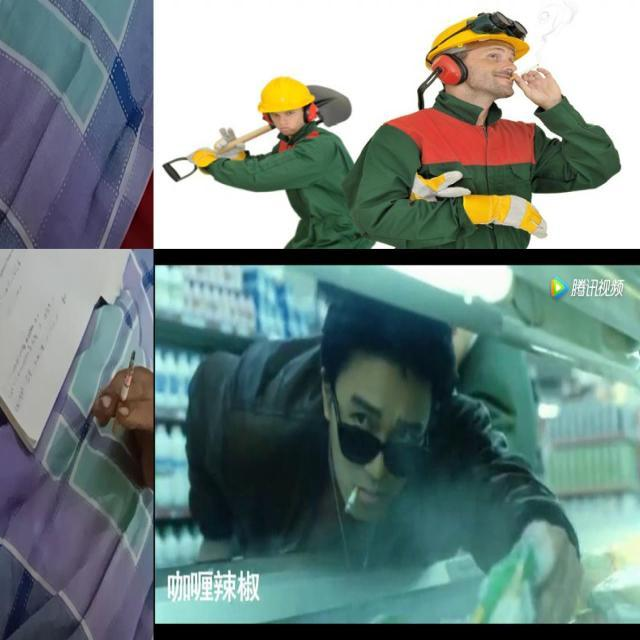smoking: (112, 351, 136, 437), (340, 482, 360, 517), (508, 64, 540, 81)
